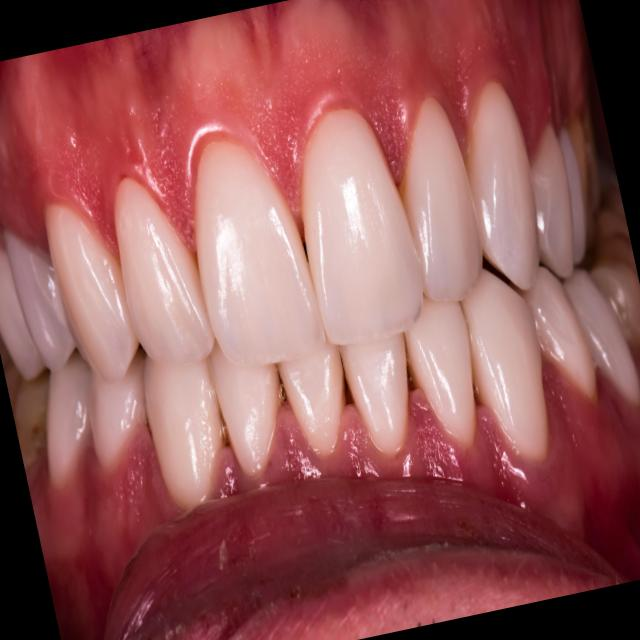Tooth: (193, 141, 325, 365), (300, 109, 423, 345), (113, 177, 215, 365), (458, 267, 549, 460), (396, 98, 482, 301), (44, 204, 139, 385), (464, 81, 540, 289), (144, 354, 225, 507), (509, 266, 597, 400), (403, 292, 475, 447), (563, 268, 640, 403), (207, 338, 281, 476), (4, 232, 75, 371), (339, 332, 408, 454), (275, 334, 345, 454), (89, 349, 147, 466), (529, 127, 573, 278), (46, 351, 91, 485), (0, 249, 45, 380), (589, 255, 640, 347), (13, 372, 48, 469)
